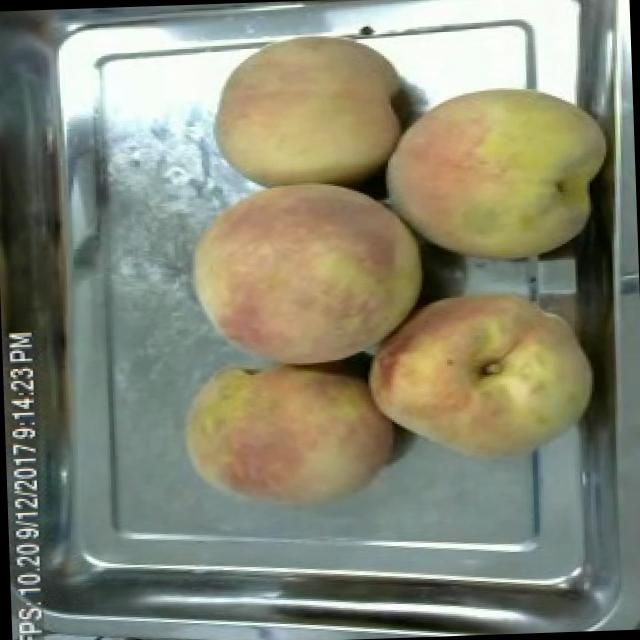Fruit: (364, 72, 618, 280), (179, 174, 438, 373), (356, 272, 606, 472), (172, 353, 404, 523), (200, 19, 414, 190)
